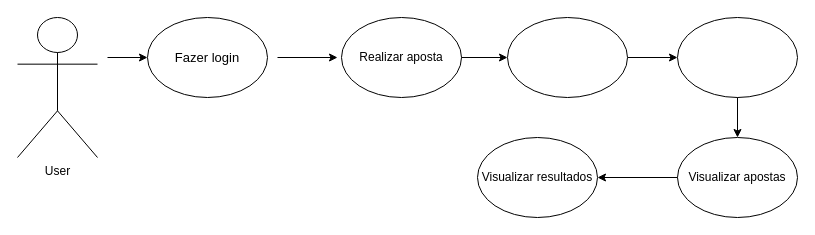
The diagram is 815 pixels wide and 235 high, and some of its shapes have lost their labels. The centre of each missing label's shape, as x and y in pixels:
"deletaR gamble -se dOnO-" goes at (737,57).
"editaR gamble -se dOnO-" goes at (567,57).
